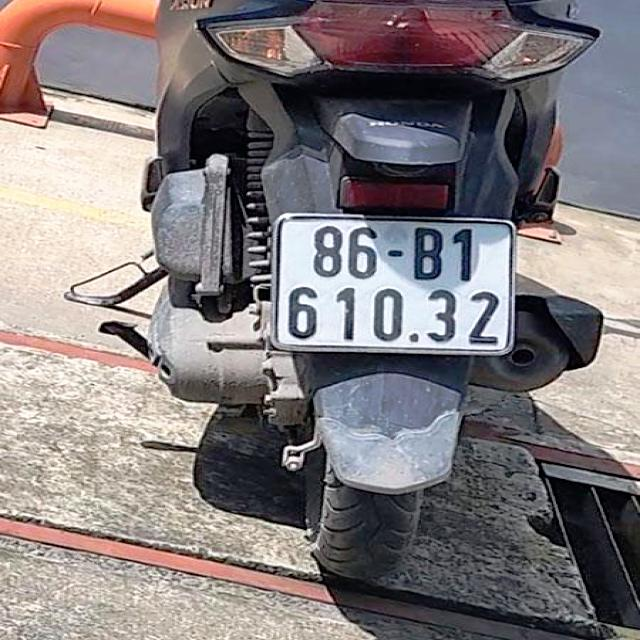license_plate: (273, 214, 518, 351)
